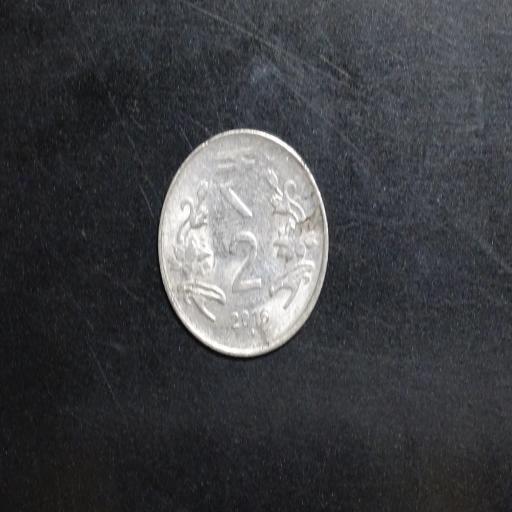rupee2: (154, 128, 330, 357)
